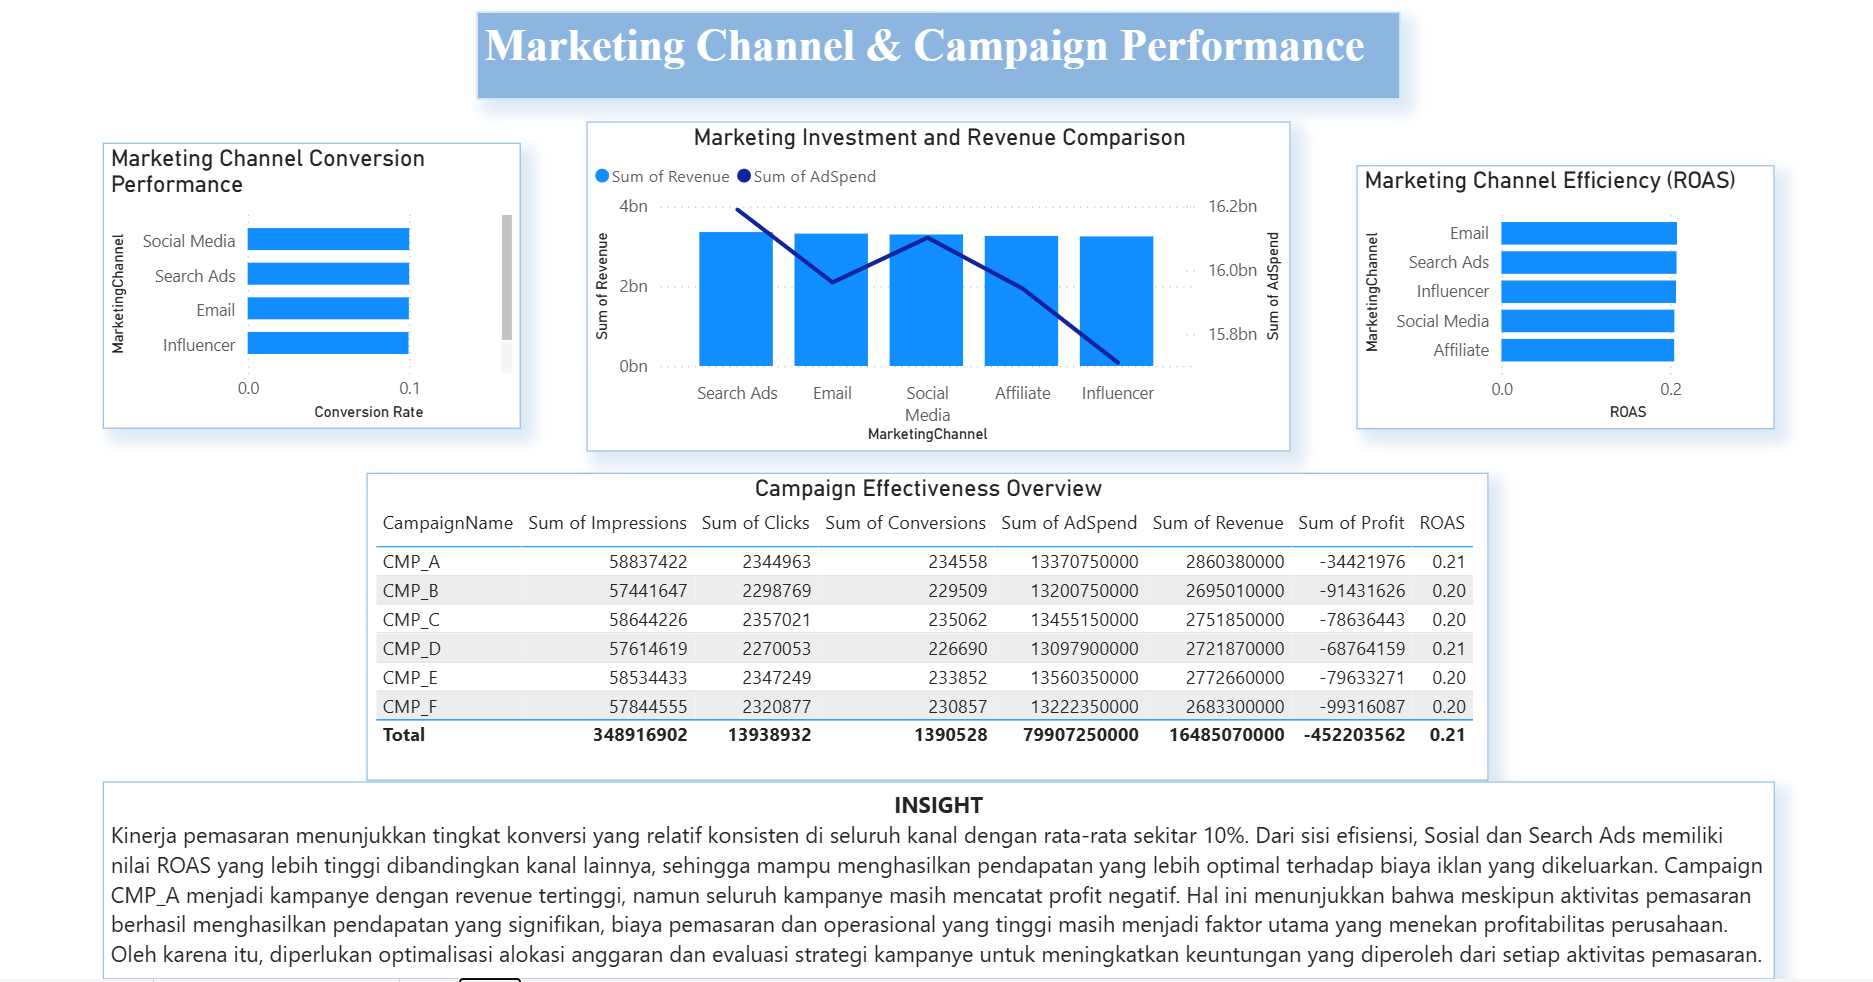

The dashboard page shown, as its layout file describes it:
{"tool":"powerbi","page":{"name":"MARKETING EFFECTIVENESS","canvas":[1280,720],"ordinal":2},"visuals":[{"type":"lineClusteredColumnComboChart","title":"Marketing Investment and Revenue Comparison","fields":{"Category":["FINAL PROJECT.MarketingChannel"],"Y":["Sum(FINAL PROJECT.Revenue)"],"Y2":["Sum(FINAL PROJECT.AdSpend)"]},"box":[384,96,512,240],"z":0},{"type":"barChart","title":"Marketing Channel Conversion Performance","fields":{"Category":["FINAL PROJECT.MarketingChannel"],"Y":["FINAL PROJECT.Conversion Rate"]},"box":[32,112,304,208],"z":1000},{"type":"barChart","title":"Marketing Channel Efficiency (ROAS)","fields":{"Y":["FINAL PROJECT.ROAS"],"Category":["FINAL PROJECT.MarketingChannel"]},"box":[944,128,304,192],"z":2000},{"type":"tableEx","title":"Campaign Effectiveness Overview","fields":{"Values":["FINAL PROJECT.CampaignName","Sum(FINAL PROJECT.Impressions)","Sum(FINAL PROJECT.Clicks)","Sum(FINAL PROJECT.Conversions)","Sum(FINAL PROJECT.AdSpend)","Sum(FINAL PROJECT.Revenue)","Sum(FINAL PROJECT.Profit)","FINAL PROJECT.ROAS"]},"box":[224,352,816,224],"z":3000},{"type":"textbox","box":[304,16,672,64],"z":4000},{"type":"textbox","box":[32,576,1216,144],"z":5000}]}

Visuals, with their boxes on the page's 1280x720 design canvas (x1, y1, x2, y2). These are canvas units, not pixel positions in the 1873x982 screenshot, which may show the page scaled, cropped or inside an application window:
"Marketing Investment and Revenue Comparison" lineClusteredColumnComboChart: locate(384, 96, 896, 336)
"Marketing Channel Conversion Performance" barChart: locate(32, 112, 336, 320)
"Marketing Channel Efficiency (ROAS)" barChart: locate(944, 128, 1248, 320)
"Campaign Effectiveness Overview" tableEx: locate(224, 352, 1040, 576)
textbox: locate(304, 16, 976, 80)
textbox: locate(32, 576, 1248, 720)
